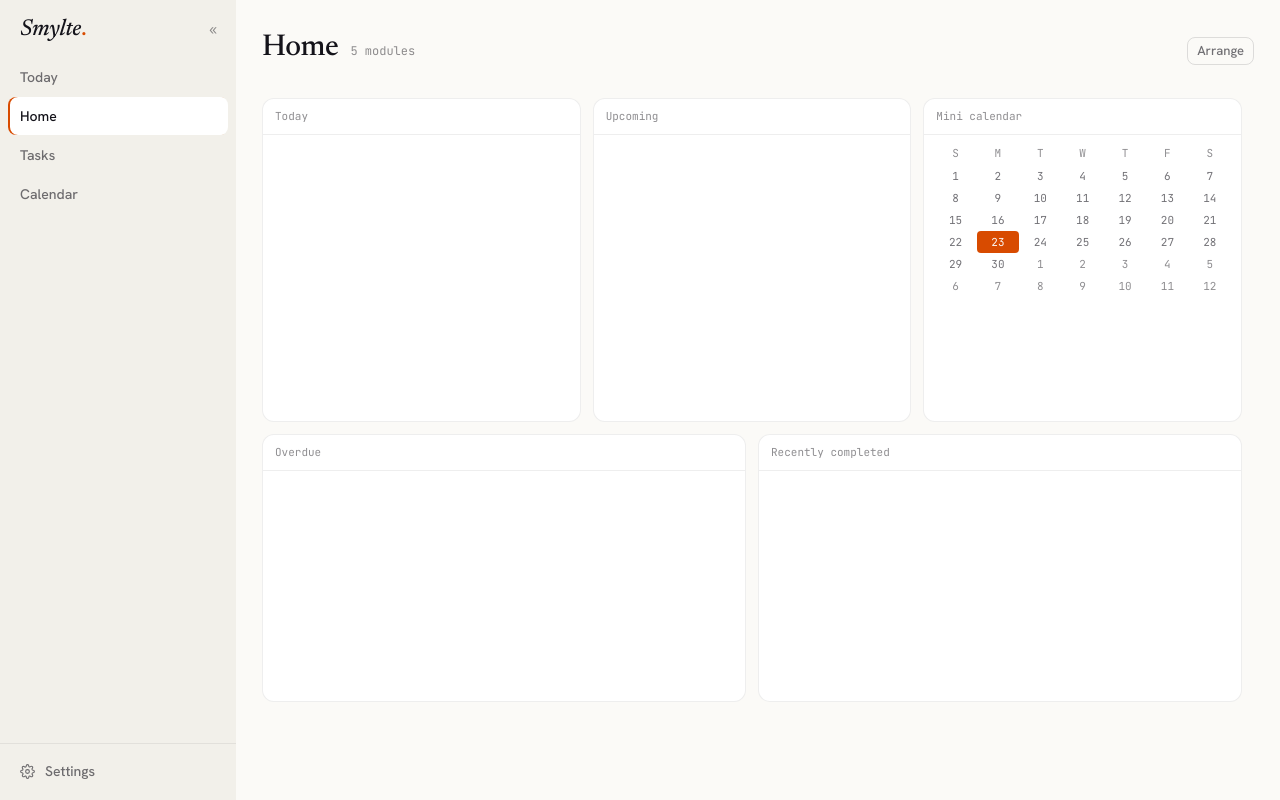
Scenario: the sidebar layout › says where the tab order shows
Step 1. Click the button "Settings" → point(118, 771), box [8,752,228,790]
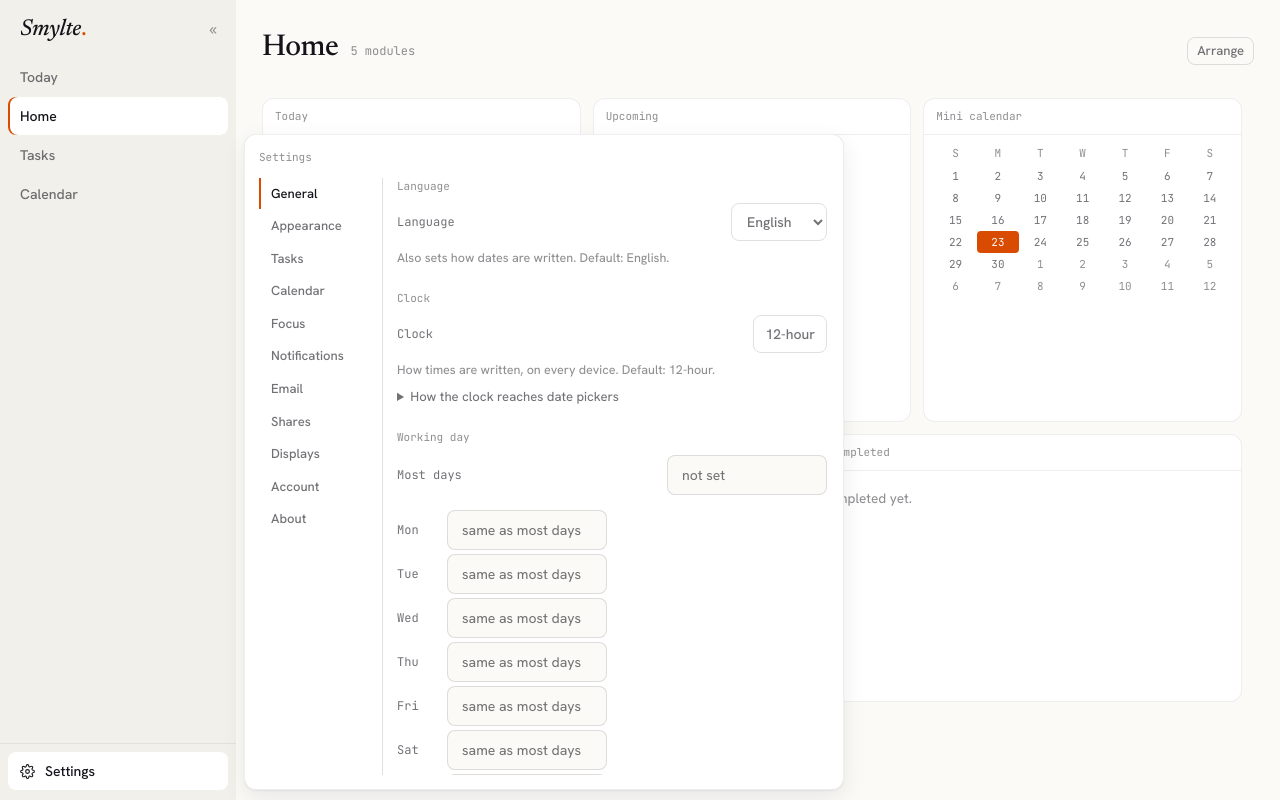
Step 2. Click the tab "Appearance" → point(316, 226), box [259,210,374,242]
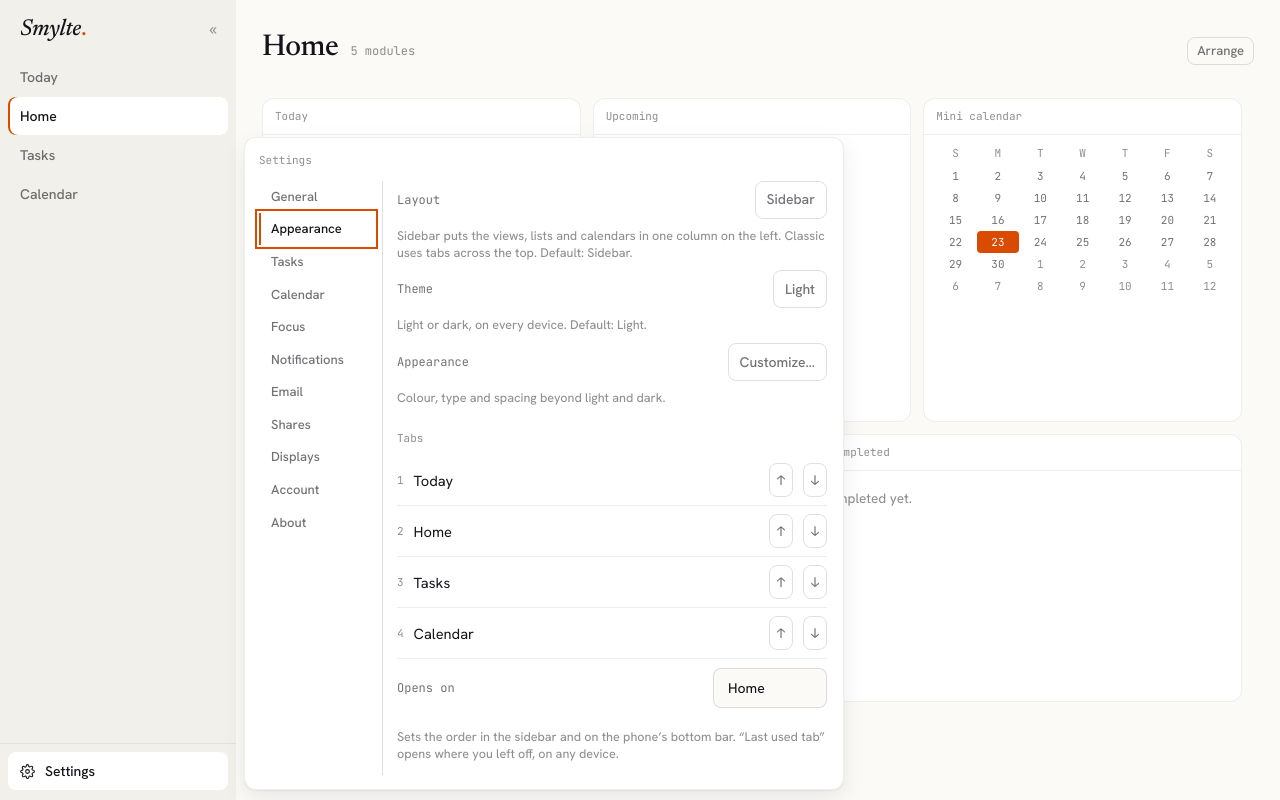
Check: the text "order in the sidebar" is shown, box [397,728,825,762]
